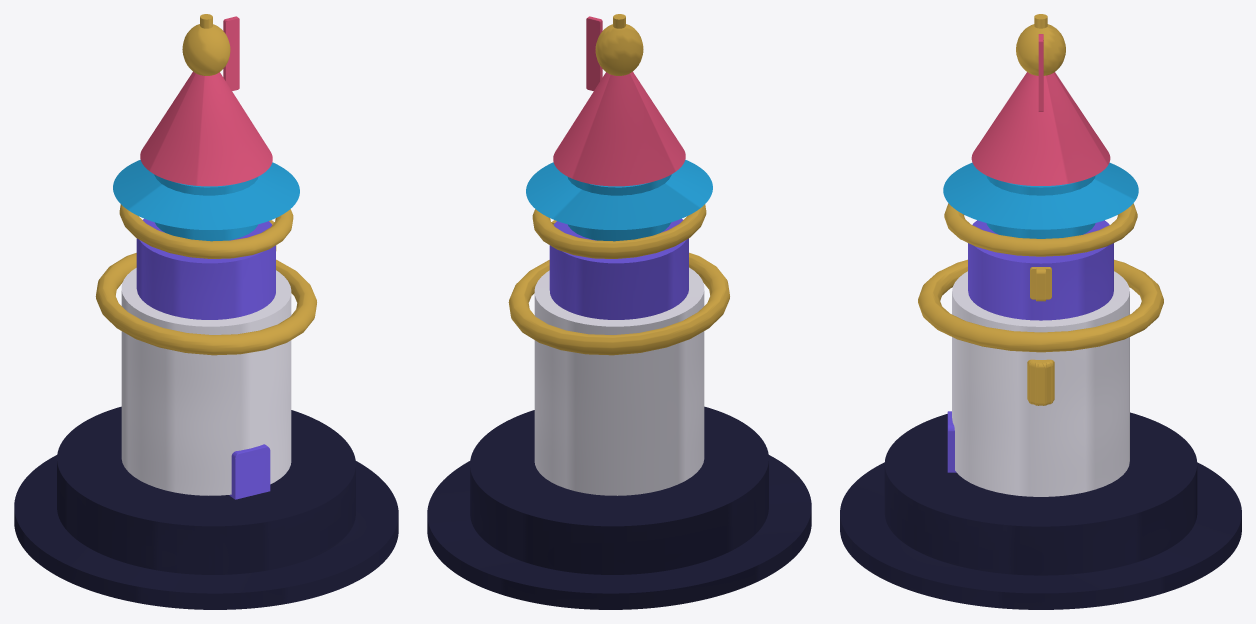
The model's file is 0808_中国建筑图鉴_大雁塔.glb.
3 renders of one model, left to right at view 1: azimuth 30°, elevation 25°; view 2: azimuth 150°, elevation 25°; view 3: azimuth 270°, elevation 25°, orthographic.
Parts seen in each view (by area): view 1: card_0808; view 2: card_0808; view 3: card_0808.
Part boxes in pixels (box(x1,y1,x2,y2)): card_0808: box(14, 14, 398, 609); card_0808: box(427, 14, 811, 609); card_0808: box(840, 14, 1241, 609).
Bounding box in the file's own units: 0.6741 × 1 × 0.7104.
